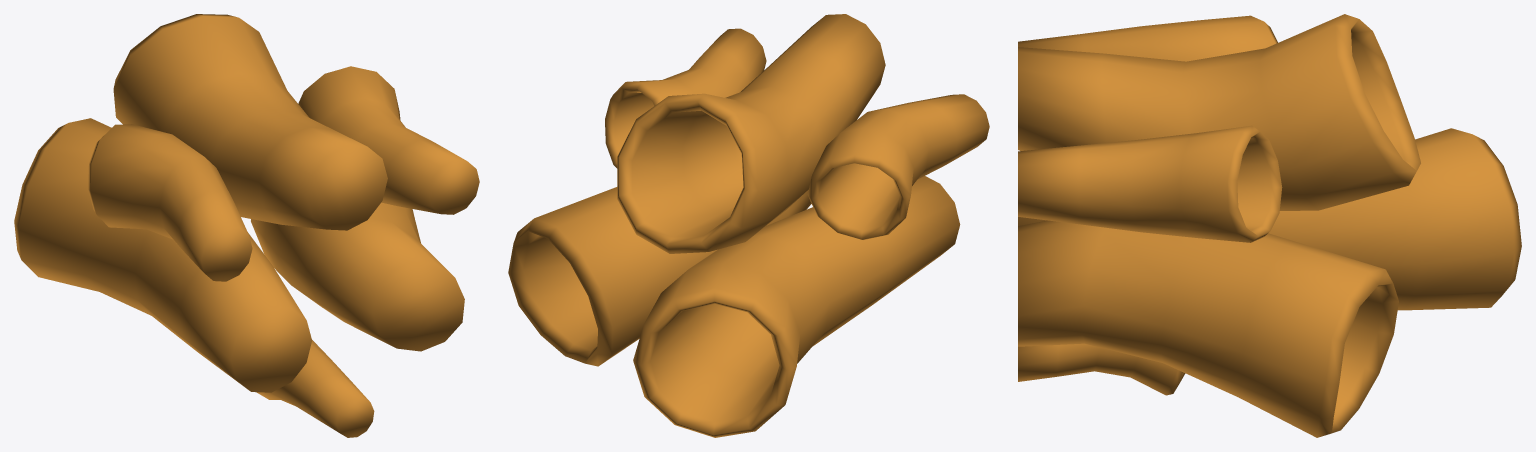
The model's file is coral01.fbx.
3 renders of one model, left to right at view 1: azimuth 30°, elevation 25°; view 2: azimuth 150°, elevation 25°; view 3: azimuth 270°, elevation 25°, orthographic. The views are drawn at different scales.
Visible parts, largest first — view 1: Coral01; view 2: Coral01; view 3: Coral01.
Part boxes in pixels (x1,y1,x2,y2): Coral01: [14, 14, 479, 437]; Coral01: [508, 14, 989, 437]; Coral01: [1018, 14, 1521, 437].
Size of the model in its own units: 457 by 397 by 498.
